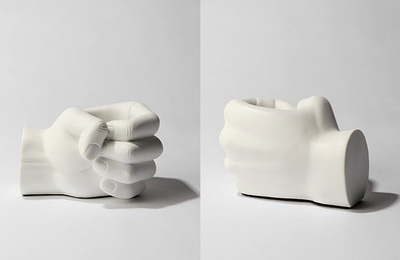closedhandfront: (45, 84, 173, 220)
